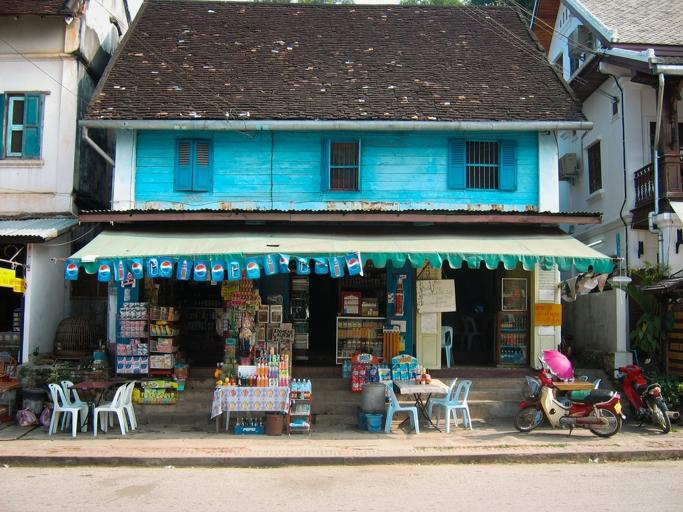non-vehicle: (510, 354, 625, 438), (607, 357, 679, 433)
